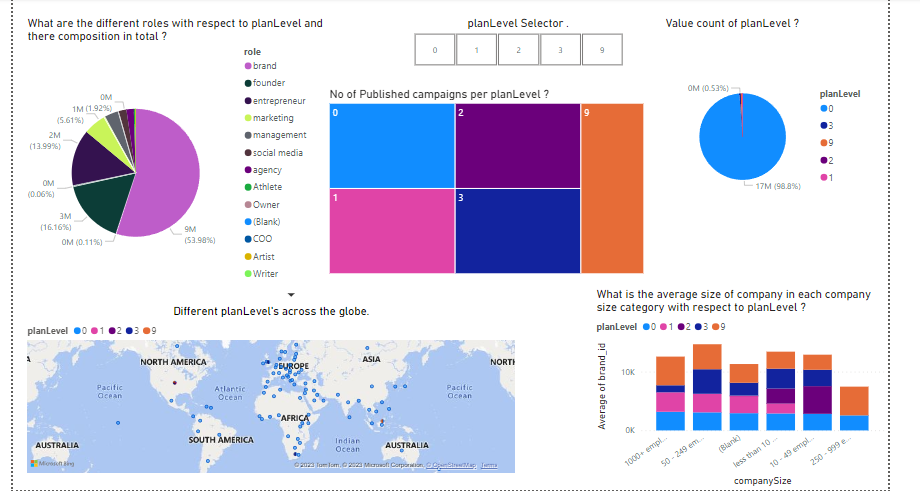

The dashboard page shown, as its layout file describes it:
{"tool":"powerbi","page":{"name":"Page 1","canvas":[1280,720],"ordinal":0},"visuals":[{"type":"pieChart","title":"Value count of planLevel ? ","fields":{"Category":["brand.planLevel"],"Y":["Sum(brand.brand_id)"]},"box":[949.5,26.8,313.7,333.8],"z":0},{"type":"slicer","title":"planLevel Selector .","fields":{"Values":["brand.planLevel"]},"box":[562,26.8,354,78.8],"z":1},{"type":"map","title":"Different planLevel''s across the globe.","fields":{"Category":["brand.country"],"Series":["brand.planLevel"]},"box":[16.8,447.9,723,253.3],"z":2},{"type":"columnChart","title":"What is the average size of company in each company size category with respect to planLevel ? ","fields":{"Category":["brand.companySize"],"Y":["Avg(brand.brand_id)"],"Series":["brand.planLevel"]},"box":[812,422.8,431.1,296.9],"z":3},{"type":"pieChart","title":"What are the different roles with respect to planLevel and there composition in total ?","fields":{"Category":["brand.role"],"Y":["Sum(brand.brand_id)"],"Series":["brand.planLevel"]},"box":[16.8,26.8,463,421.1],"z":4},{"type":"treemap","title":"No of Published campaigns per planLevel ?","fields":{"Group":["brand.planLevel"],"Values":["CountNonNull(campaign.published)"]},"box":[458,130.9,469.7,278.5],"z":5}]}

Visuals, with their boxes on the page's 1280x720 design canvas (x1, y1, x2, y2). These are canvas units, not pixel positions in the 920x492 screenshot, which may show the page scaled, cropped or inside an application window:
"Value count of planLevel ? " pieChart: 950 27 1263 361
"planLevel Selector ." slicer: 562 27 916 106
"Different planLevel''s across the globe." map: 17 448 740 701
"What is the average size of company in each company size category with respect to planLevel ? " columnChart: 812 423 1243 720
"What are the different roles with respect to planLevel and there composition in total ?" pieChart: 17 27 480 448
"No of Published campaigns per planLevel ?" treemap: 458 131 928 409
